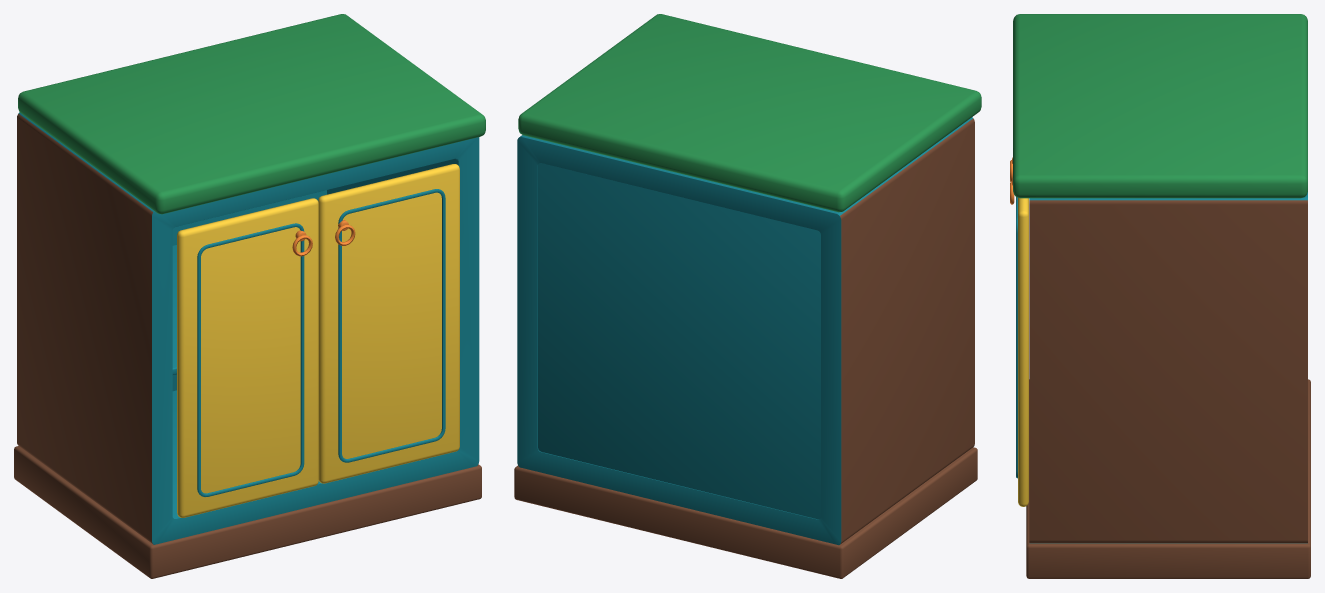
File: armario_cozinha_base_2portas_colonial_mata.glb
3 renders of one model, left to right at view 1: azimuth 30°, elevation 25°; view 2: azimuth 150°, elevation 25°; view 3: azimuth 270°, elevation 25°, orthographic. The views are drawn at different scales.
Visible parts, largest first — view 1: armario_cozinha_base_2portas_colonial_mata, porta_2, porta_1; view 2: armario_cozinha_base_2portas_colonial_mata; view 3: armario_cozinha_base_2portas_colonial_mata, porta_2.
Part boxes in pixels (x1,y1,x2,y2): armario_cozinha_base_2portas_colonial_mata: [14, 14, 485, 578]; porta_2: [318, 164, 459, 483]; porta_1: [177, 198, 318, 517]; armario_cozinha_base_2portas_colonial_mata: [514, 14, 981, 578]; armario_cozinha_base_2portas_colonial_mata: [1013, 14, 1310, 578]; porta_2: [1010, 179, 1028, 506].
Size of the model in its own units: 0.804 by 0.9 by 0.6112.
Materials: 1 (1 with a texture image).
